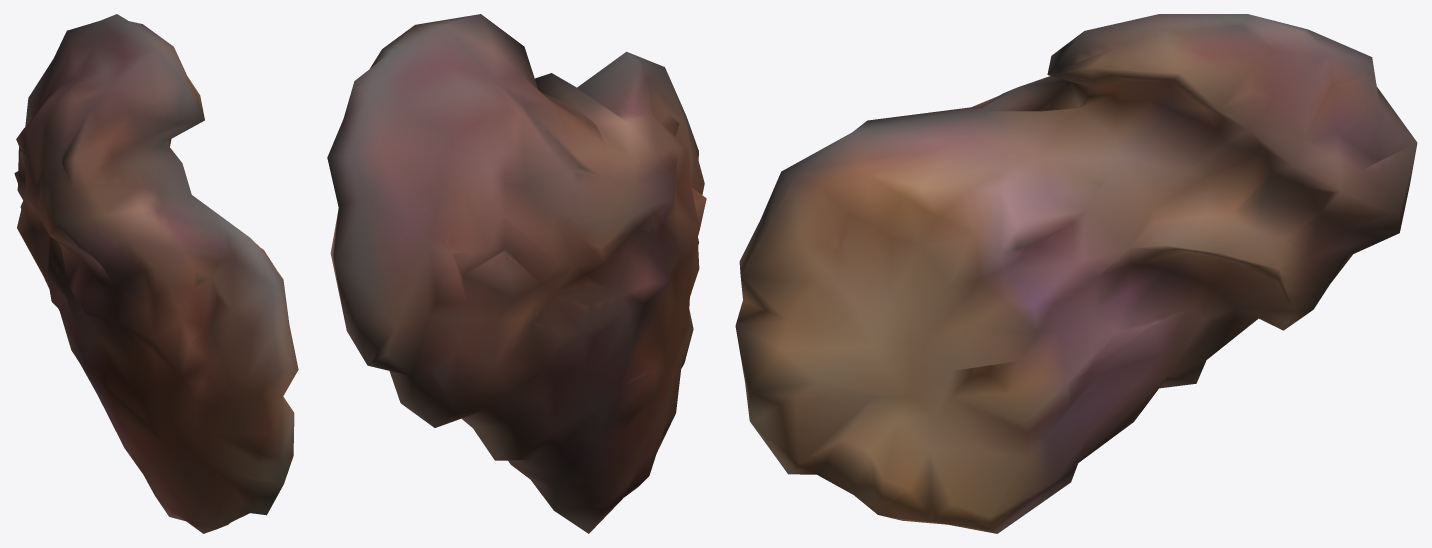
File: mushroom_wood.glb
3 renders of one model, left to right at view 1: azimuth 30°, elevation 25°; view 2: azimuth 150°, elevation 25°; view 3: azimuth 270°, elevation 25°, orthographic. The views are drawn at different scales.
Parts seen in each view (by area): view 1: model; view 2: model; view 3: model.
Boxes of the visible parts, box(x1,y1,x2,y2) form: model: box(14, 14, 298, 533); model: box(327, 14, 706, 533); model: box(735, 14, 1417, 533).
Size of the model in its own units: 0.1341 by 0.3591 by 0.4001.
1 material, 1 textured.
